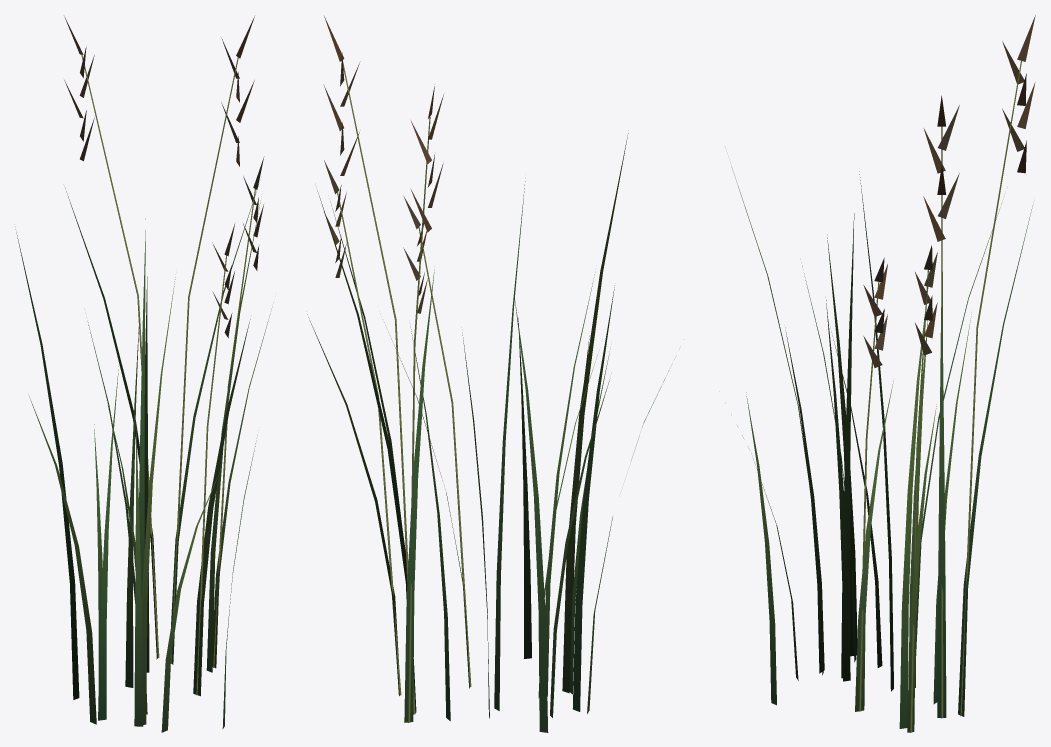
Rendered from sedge-b.lod0.glb.
The picture shows the model from 3 angles, left to right: view 1: azimuth 30°, elevation 25°; view 2: azimuth 150°, elevation 25°; view 3: azimuth 270°, elevation 25°; orthographic projection. The views are drawn at different scales.
Visible parts, largest first — view 1: sedge-b.lod0; view 2: sedge-b.lod0; view 3: sedge-b.lod0.
Part boxes in pixels (bbox=[...]): sedge-b.lod0: bbox=[15, 16, 272, 732]; sedge-b.lod0: bbox=[307, 16, 679, 732]; sedge-b.lod0: bbox=[731, 15, 1035, 732].
Bounding box in the file's own units: 0.4965 × 0.9944 × 0.4315.
